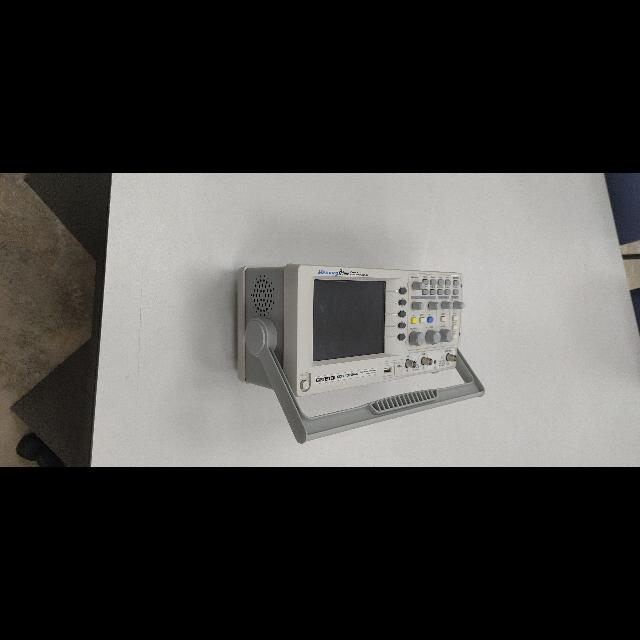Digital-Oscilloscope: (236, 264, 484, 443)
